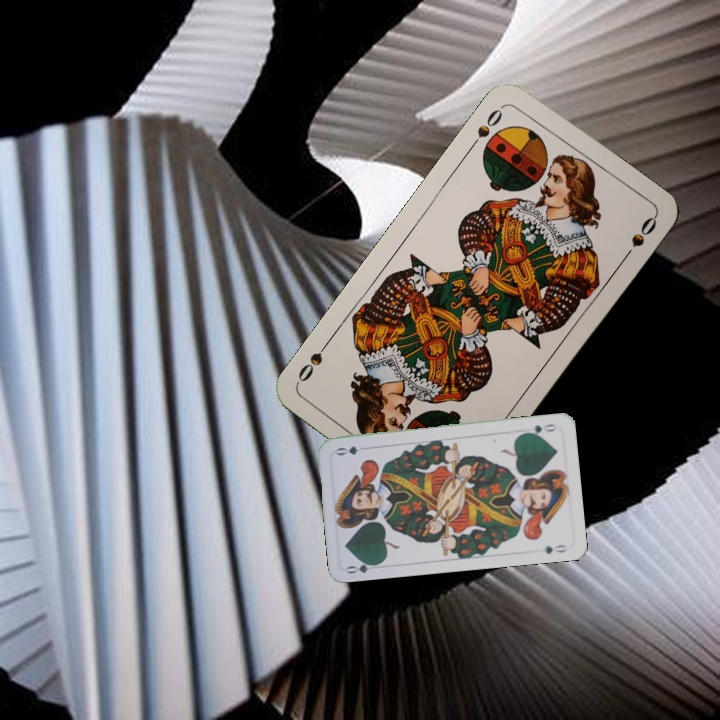GO: (343, 557, 383, 576), (519, 420, 559, 438)
SO: (466, 101, 508, 152)
